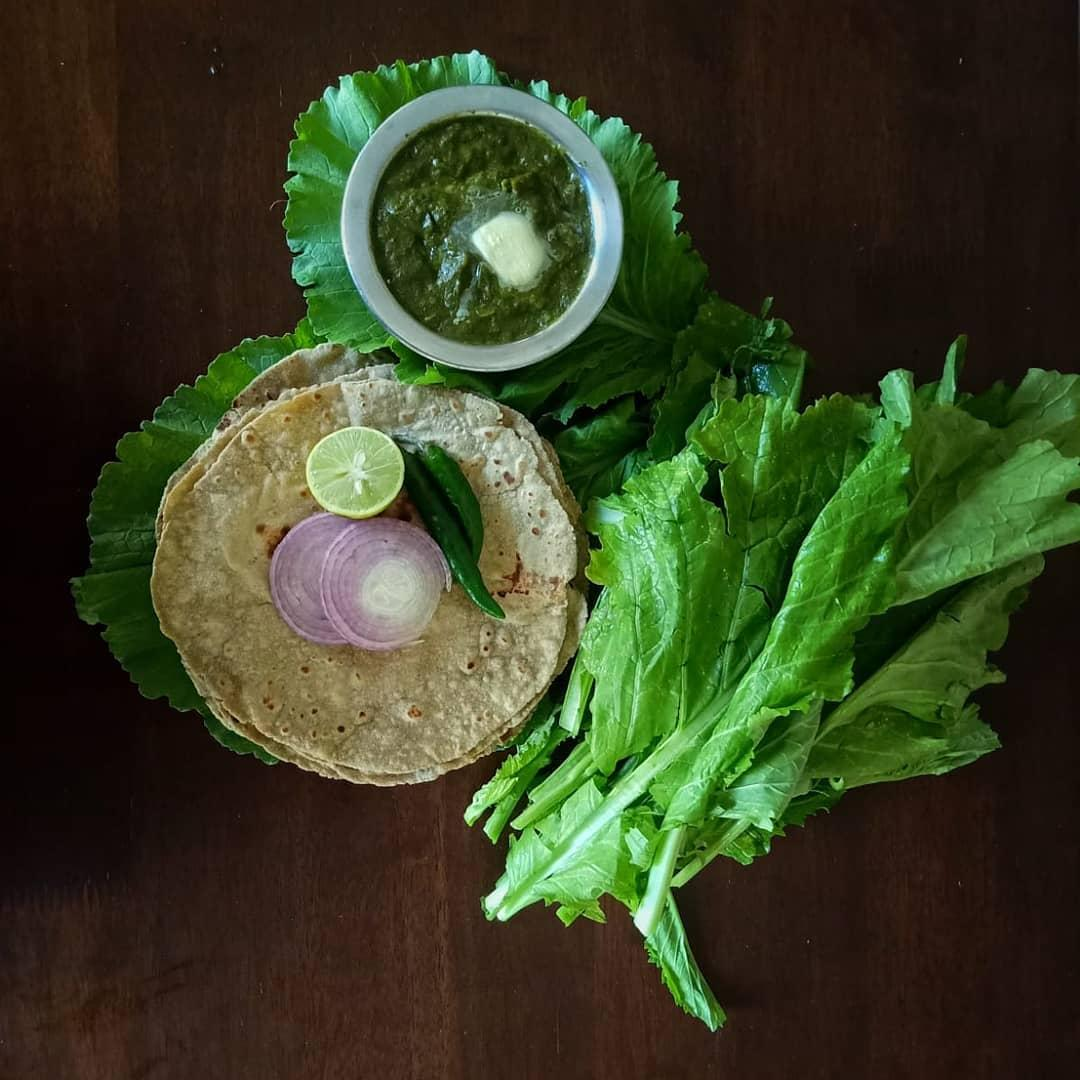saag: (376, 114, 588, 341)
